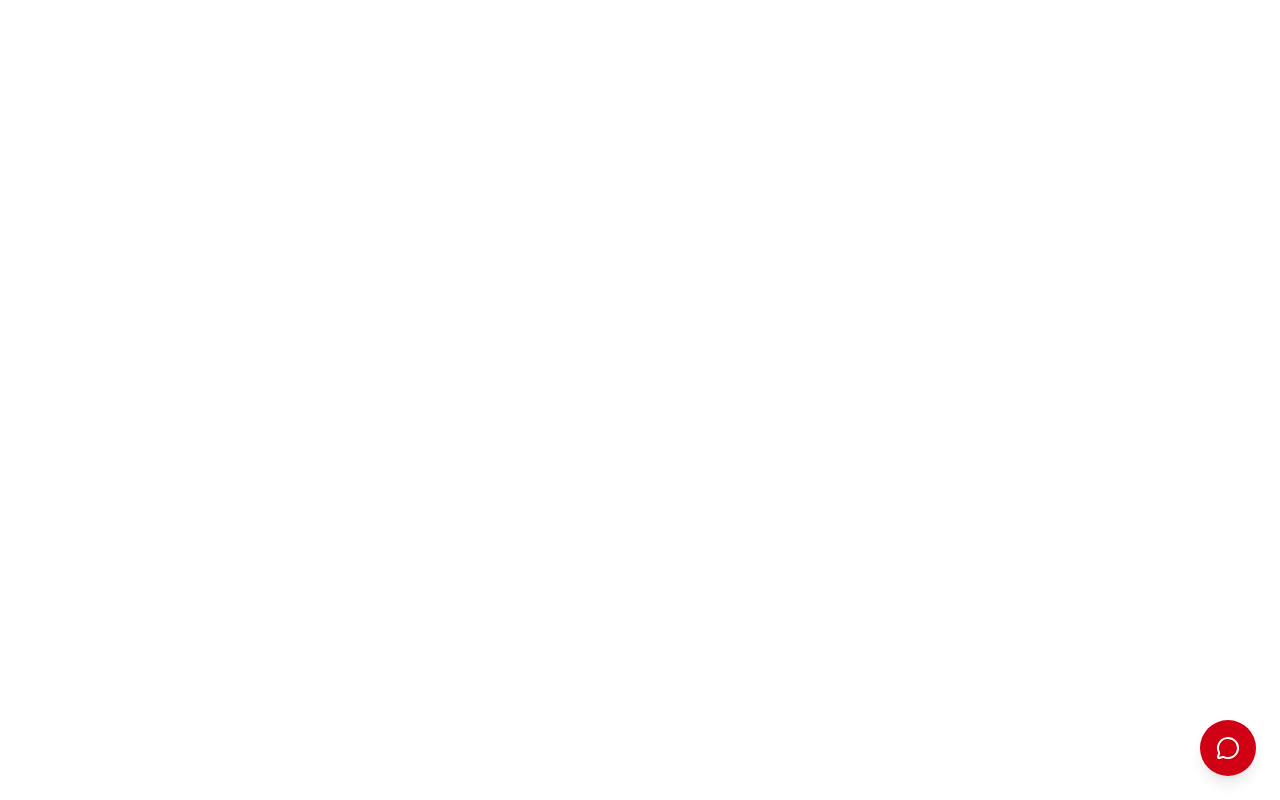
Test case: falls back to projects when the request is unavailable (rejected=false)
Later steps or results of the test are not shown.
Expected: the field labelled "Your question" is not shown
Click the button named "Ask about my work".
click(1228, 748)  # box top-left (1200, 720), bottom-right (1256, 776)
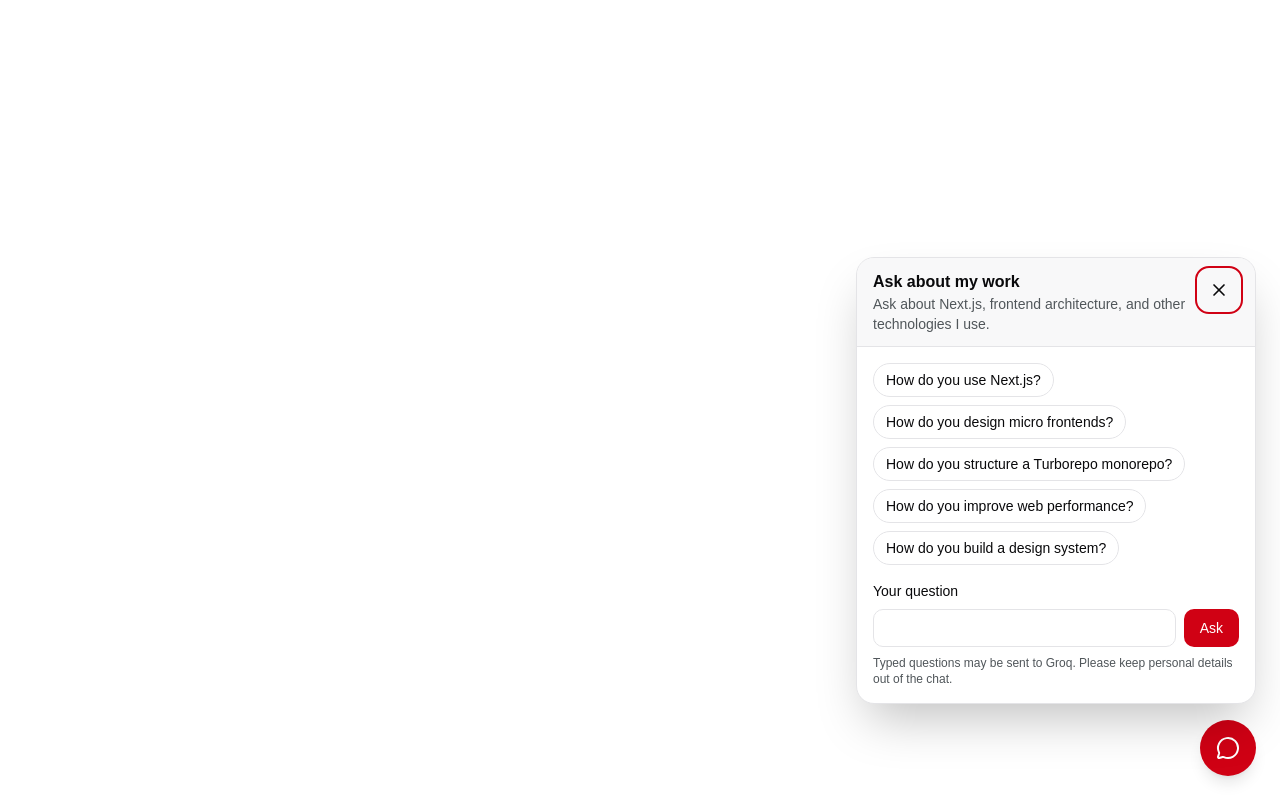
Now the dialog "Ask about my work" is shown, box top-left (856, 257), bottom-right (1256, 704)
